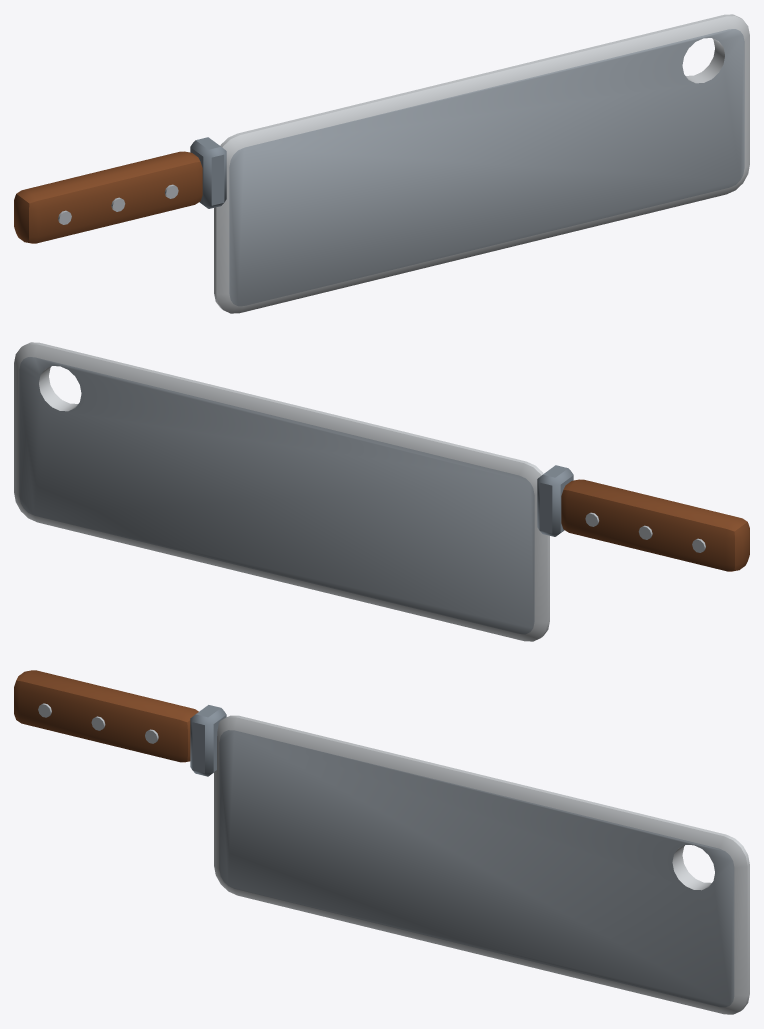
The model's file is sword_cleaver.glb.
The picture shows the model from 3 angles, top to bottom: view 1: azimuth 30°, elevation 25°; view 2: azimuth 150°, elevation 25°; view 3: azimuth 330°, elevation 25°; orthographic projection.
Visible parts, largest first — view 1: sword_cleaver; view 2: sword_cleaver; view 3: sword_cleaver.
Part boxes in pixels (x1,y1,x2,y2): sword_cleaver: [14, 14, 749, 313]; sword_cleaver: [14, 342, 749, 641]; sword_cleaver: [14, 670, 749, 1014].
Bounding box in the file's own units: 1.09 × 0.255 × 0.055.
